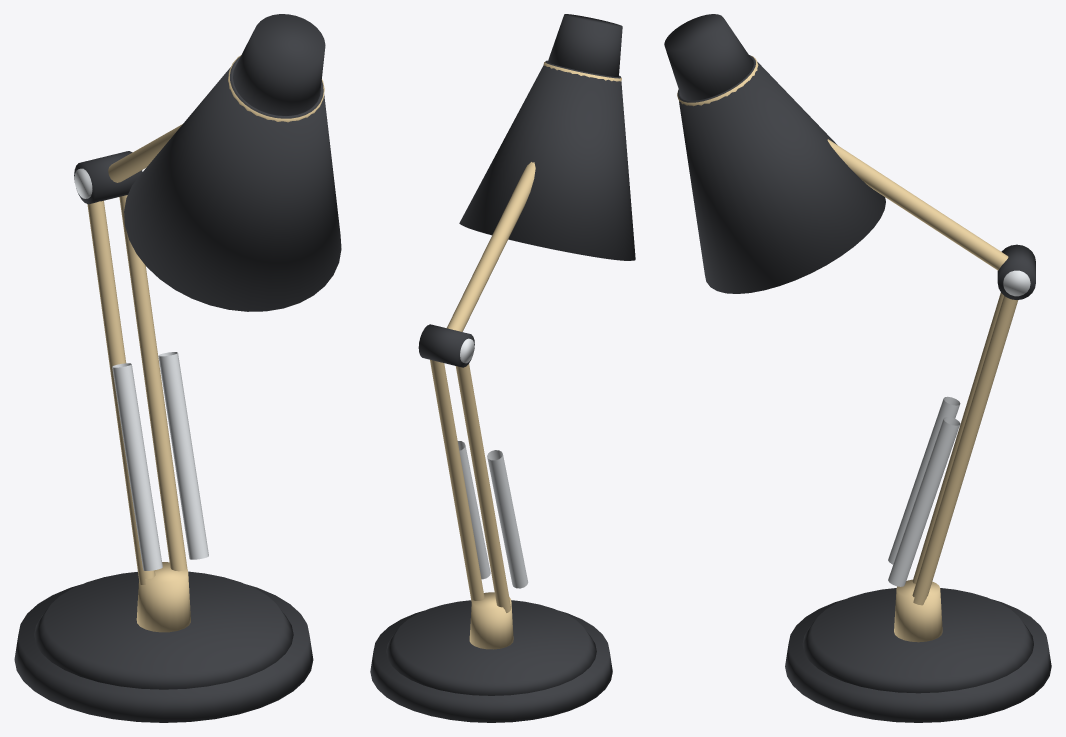
File: anglepoise_lamp.glb
The picture shows the model from 3 angles, left to right: view 1: azimuth 30°, elevation 25°; view 2: azimuth 150°, elevation 25°; view 3: azimuth 270°, elevation 25°; orthographic projection. The views are drawn at different scales.
Parts seen in each view (by area): view 1: Shade_Cone, Base_UpperStep, Base_Lower, Shade_TopCap, LowerArm_0.012, Spring_0.012, Spring_-0.012, LowerArm_-0.012, Base_StemBoss, Elbow_Joint, UpperArm; view 2: Shade_Cone, Base_UpperStep, Base_Lower, Shade_TopCap, LowerArm_-0.012, LowerArm_0.012, UpperArm, Spring_-0.012, Base_StemBoss, Elbow_Joint, Spring_0.012; view 3: Shade_Cone, Base_UpperStep, Base_Lower, Shade_TopCap, LowerArm_0.012, UpperArm, Spring_0.012, Base_StemBoss, Spring_-0.012, LowerArm_-0.012, Elbow_Joint.
Part boxes in pixels (x1,y1,x2,y2): Shade_Cone: (124,56,341,311); Base_UpperStep: (34,571,293,689); Base_Lower: (14,584,313,722); Shade_TopCap: (233,14,325,115); LowerArm_0.012: (119,195,187,571); Spring_0.012: (158,352,208,559); Spring_-0.012: (112,363,162,570); LowerArm_-0.012: (87,200,155,584); Base_StemBoss: (136,562,190,632); Elbow_Joint: (74,151,142,204); UpperArm: (108,124,182,182); Shade_Cone: (459,60,635,260); Base_UpperStep: (386,600,596,695); Base_Lower: (370,610,612,722); Shade_TopCap: (547,14,622,77); LowerArm_-0.012: (455,364,511,612); LowerArm_0.012: (430,359,484,601); UpperArm: (447,162,535,331); Spring_-0.012: (487,450,528,588); Base_StemBoss: (469,592,513,649); Elbow_Joint: (418,324,474,367); Spring_0.012: (457,441,490,579); Shade_Cone: (677,55,885,293); Base_UpperStep: (802,588,1033,693); Base_Lower: (785,599,1051,722); Shade_TopCap: (664,14,753,100); LowerArm_0.012: (912,296,1018,605); UpperArm: (827,139,1008,270); Spring_0.012: (888,417,960,586); Base_StemBoss: (894,579,942,642); Spring_-0.012: (888,396,960,564); LowerArm_-0.012: (912,292,1003,583); Elbow_Joint: (997,244,1035,299).
Bounding box in the file's own units: 0.195 × 0.5214 × 0.2833.
